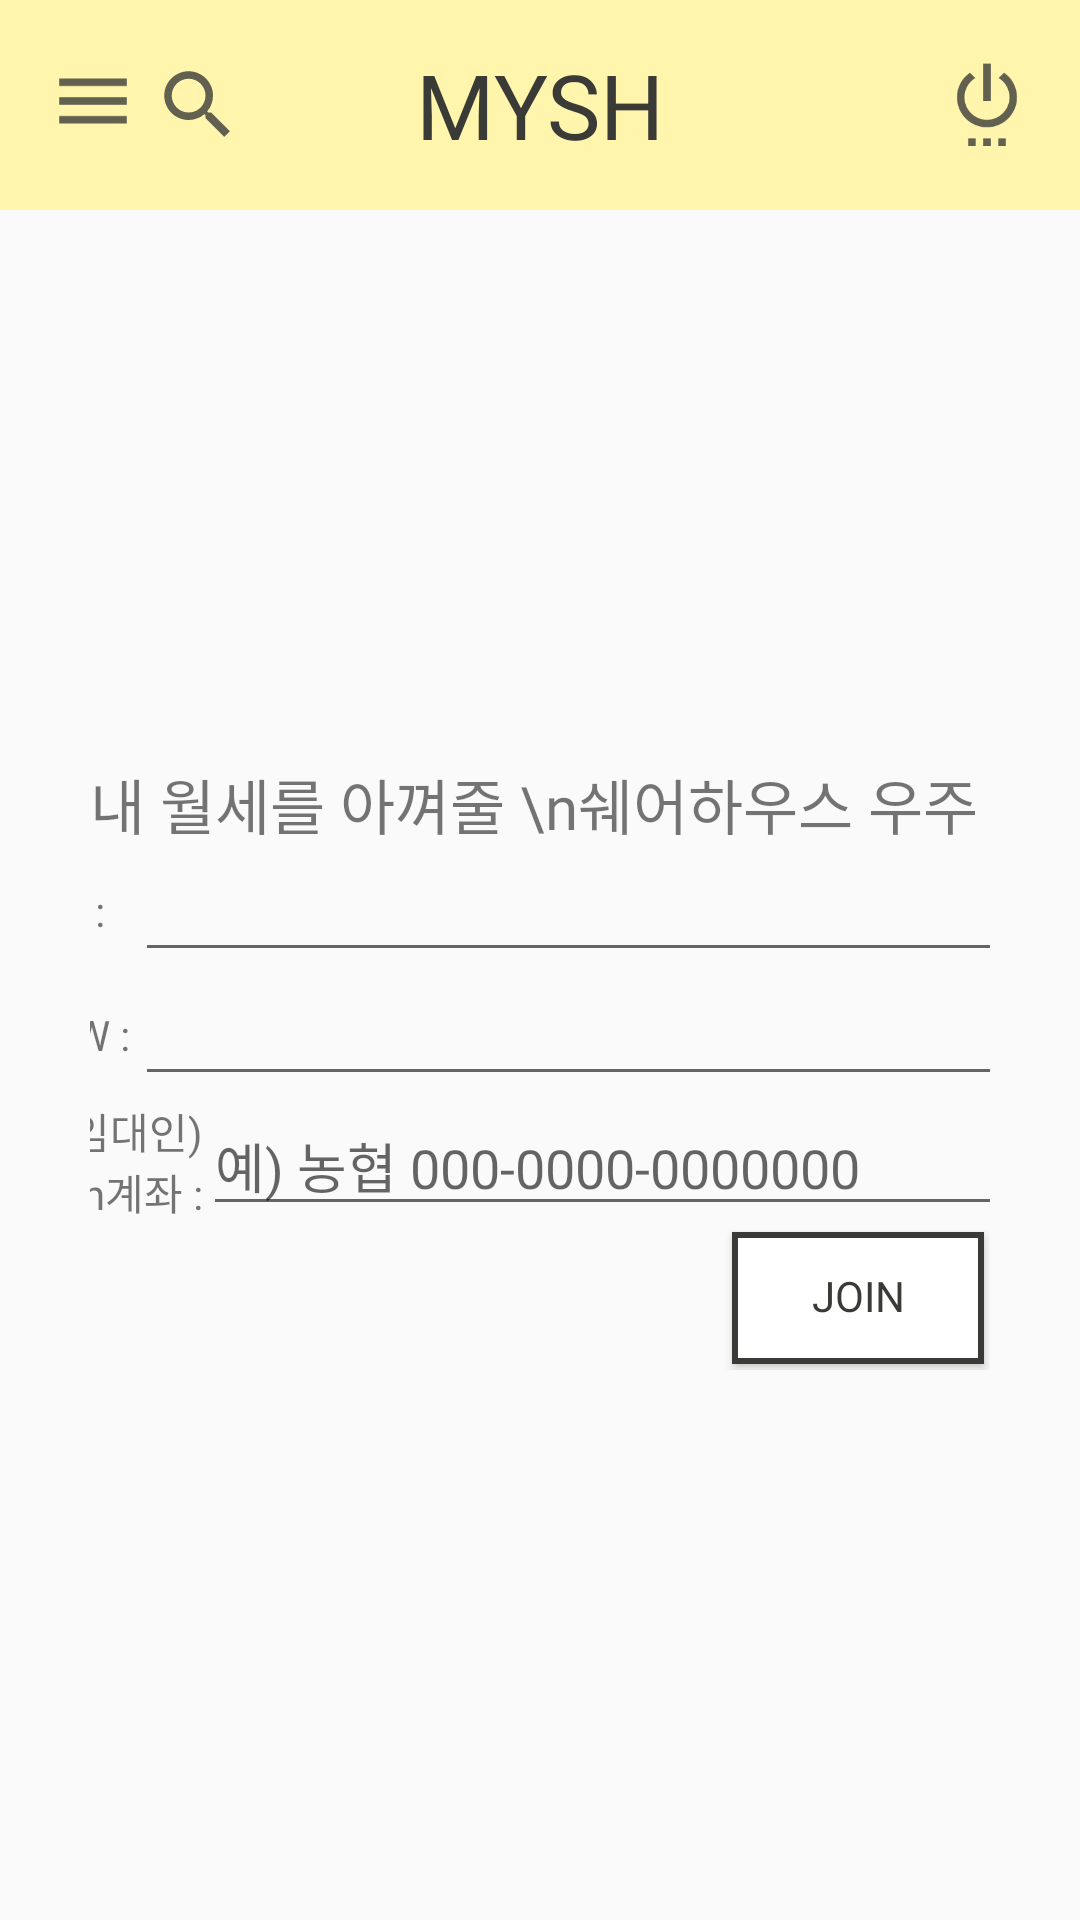

Point at icon controls on the screen. Image size 1080x1920, points as [x,y].
menu: [93,101]
search: [197,104]
